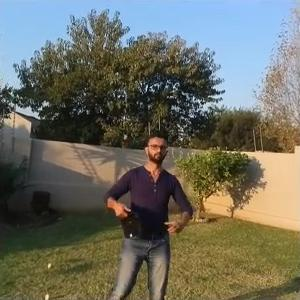follow: (94, 124, 193, 298)
